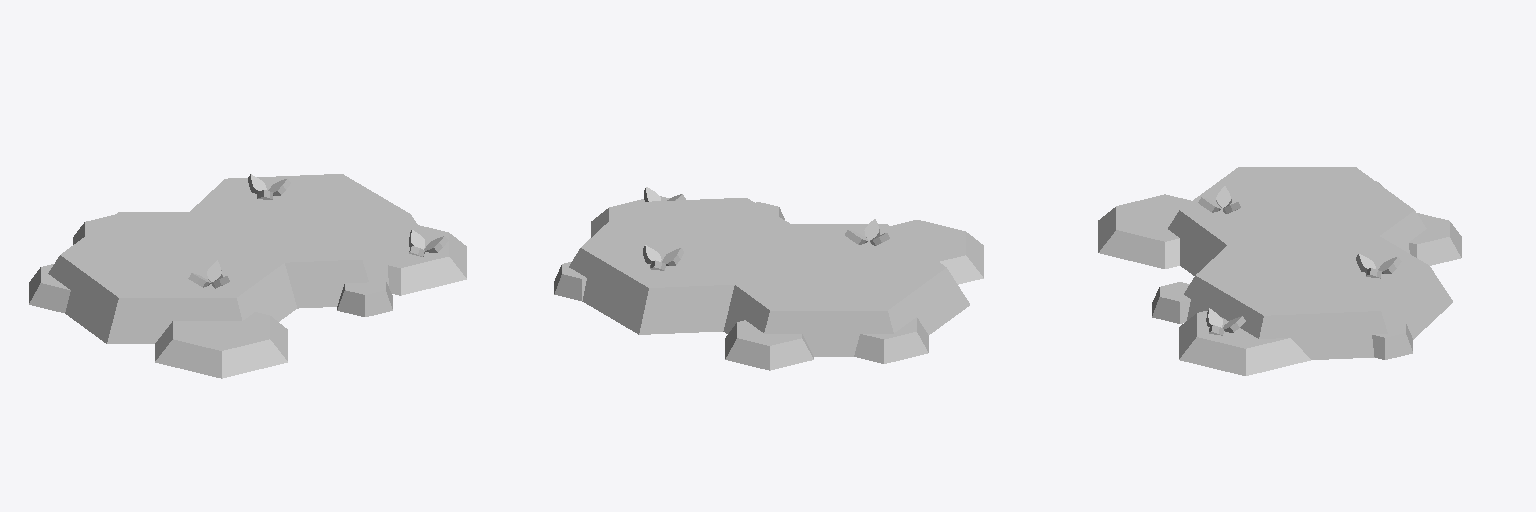
The model's file is rock-flat-grass.obj.
3 views of the same model, side by side, from view 1: azimuth 30°, elevation 25°; view 2: azimuth 150°, elevation 25°; view 3: azimuth 270°, elevation 25° (orthographic).
Parts seen in each view (by area): view 1: rock-flat-grass; view 2: rock-flat-grass; view 3: rock-flat-grass.
Part boxes in pixels (x1,y1,x2,y2): rock-flat-grass: (29, 174, 466, 378); rock-flat-grass: (554, 187, 983, 370); rock-flat-grass: (1098, 167, 1461, 375).
Size of the model in its own units: 1.79 by 0.2258 by 1.45.